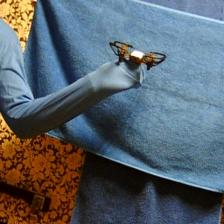drone: (107, 39, 166, 74)
